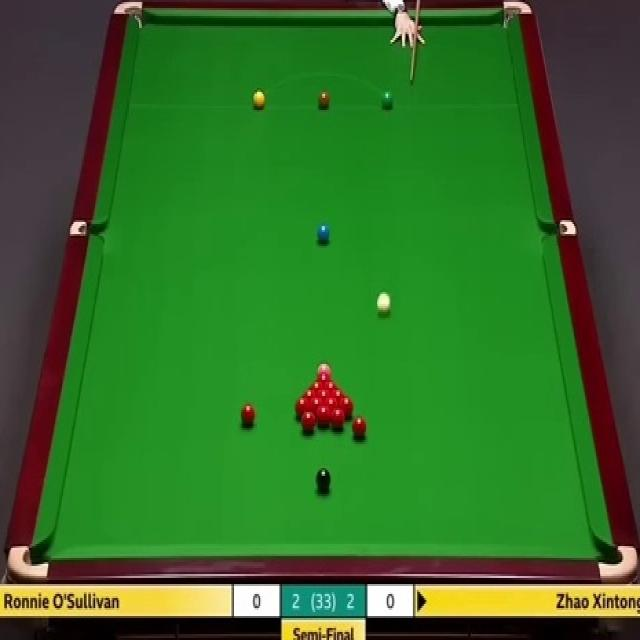black-ball: (315, 466, 331, 493)
blue-ball: (318, 224, 331, 247)
brown-ball: (319, 91, 331, 109)
green-ball: (382, 90, 393, 110)
pink-ball: (316, 359, 332, 376)
red-ball: (239, 404, 258, 430), (352, 414, 367, 441), (300, 412, 316, 435), (316, 405, 331, 429), (338, 397, 355, 417), (331, 410, 347, 431), (295, 397, 310, 418), (325, 398, 338, 416), (309, 397, 324, 412), (322, 382, 340, 392), (331, 389, 347, 400), (315, 372, 332, 382), (316, 390, 332, 400), (307, 382, 323, 391), (303, 390, 316, 401)
white-ball: (374, 291, 390, 315)
yellow-ball: (252, 89, 267, 110)
